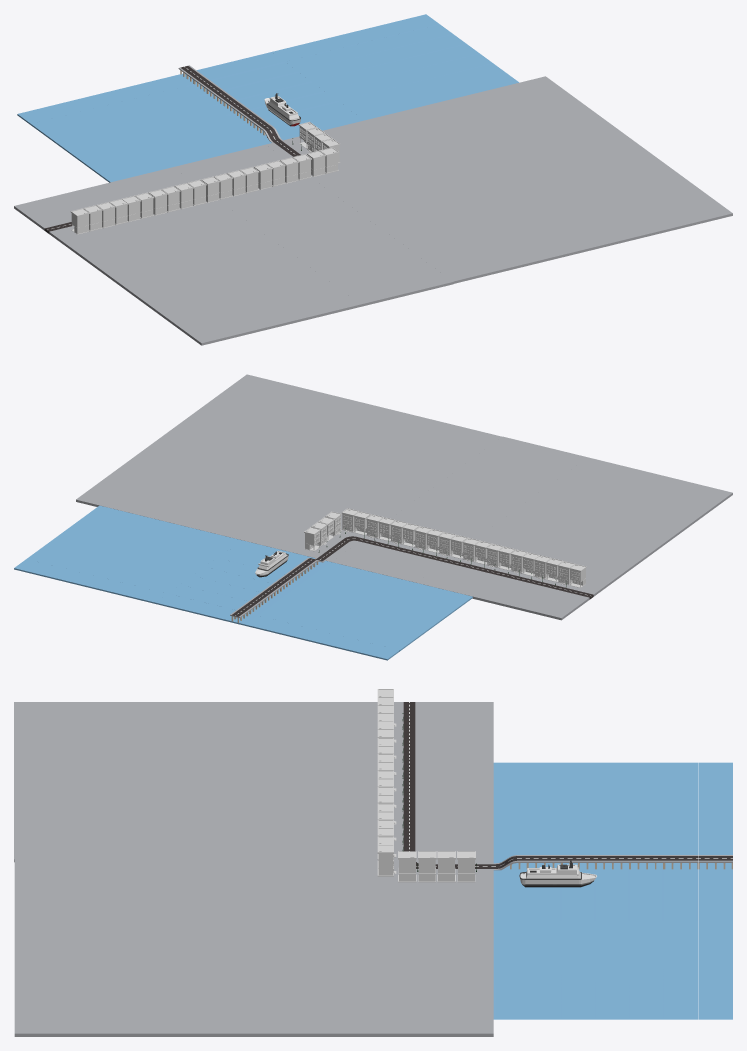
The model's file is street 2.fbx.
3 views of the same model, one above another, from view 1: azimuth 30°, elevation 25°; view 2: azimuth 150°, elevation 25°; view 3: azimuth 270°, elevation 25° (orthographic). The views are drawn at different scales.
Parts seen in each view (by area): view 1: Street_Curve, Street_Bridge_Water.005, Street_Bridge_Water.004, Street_Bridge_Water.003, Street_Bridge_Water.002, Street_Bridge_Water, Street_Ramp_Water, Street_Bridge_Water.001, Street_Straight.012, Street_Straight.011, Street_Straight.006, Street_Straight.003 (+10 smaller); view 2: Street_Curve, Street_Bridge_Water.005, Street_Bridge_Water.004, Street_Bridge_Water.002, Street_Bridge_Water.003, Street_Bridge_Water.001, Street_Bridge_Water, Street_Ramp_Water, Street_Straight.012, Street_Straight.011, Street_Straight, Street_Straight.006 (+10 smaller); view 3: Street_Curve, Street_Bridge_Water.003, Street_Bridge_Water.004, Street_Bridge_Water.005, Street_Ramp_Water, Street_Bridge_Water.002, Street_Bridge_Water.001, Street_Bridge_Water, Street_Straight.004, Street_Straight.008, Street_Straight.010, Street_Straight.012 (+14 smaller).
Boxes of the visible parts, box(x1,y1,x2,y2) form: Street_Curve: box(311, 96, 732, 283); Street_Bridge_Water.005: box(17, 14, 438, 124); Street_Bridge_Water.004: box(31, 24, 452, 134); Street_Bridge_Water.003: box(44, 34, 465, 144); Street_Bridge_Water.002: box(57, 43, 479, 154); Street_Bridge_Water: box(84, 63, 505, 173); Street_Ramp_Water: box(97, 73, 518, 182); Street_Bridge_Water.001: box(71, 53, 492, 163); Street_Straight.012: box(14, 200, 224, 345); Street_Straight.011: box(37, 195, 247, 339); Street_Straight.006: box(150, 167, 360, 312); Street_Straight.003: box(243, 144, 453, 289); Street_Curve: box(100, 374, 501, 543); Street_Bridge_Water.005: box(14, 559, 399, 660); Street_Bridge_Water.004: box(27, 550, 411, 651); Street_Bridge_Water.002: box(51, 532, 436, 633); Street_Bridge_Water.003: box(39, 541, 424, 642); Street_Bridge_Water.001: box(63, 523, 448, 624); Street_Bridge_Water: box(75, 514, 460, 615); Street_Ramp_Water: box(88, 505, 472, 606); Street_Straight.012: box(541, 487, 732, 620); Street_Straight.011: box(519, 482, 711, 615); Street_Straight: box(76, 490, 342, 561); Street_Straight.006: box(416, 457, 608, 587); Street_Curve: box(14, 859, 426, 1036); Street_Bridge_Water.003: box(629, 762, 664, 1019); Street_Bridge_Water.004: box(664, 762, 698, 1019); Street_Bridge_Water.005: box(698, 762, 732, 1019); Street_Ramp_Water: box(493, 762, 527, 1019); Street_Bridge_Water.002: box(595, 762, 629, 1019); Street_Bridge_Water.001: box(561, 762, 595, 1019); Street_Bridge_Water: box(527, 762, 561, 1019); Street_Straight.004: box(14, 815, 493, 830); Street_Straight.008: box(14, 758, 493, 773); Street_Straight.010: box(14, 730, 493, 745); Street_Straight.012: box(14, 702, 493, 716).
Size of the model in its own units: 91082 by 3510 by 83430.
